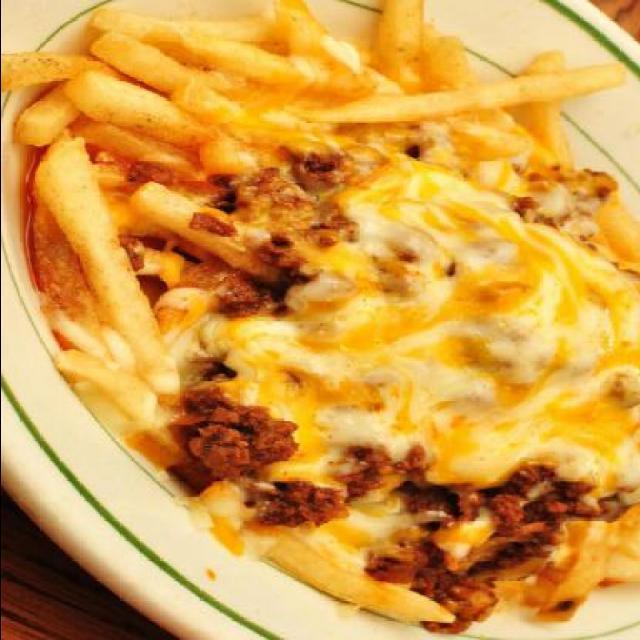French fries: (116, 0, 640, 626)
